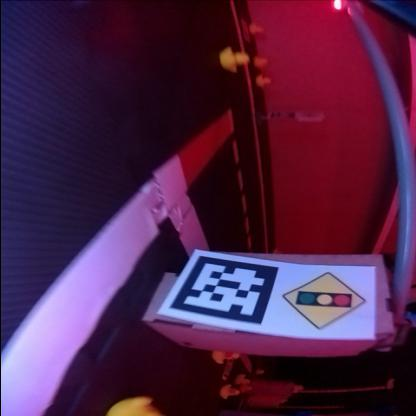Duckie: (219, 50, 249, 74), (212, 352, 238, 364), (220, 385, 240, 400), (254, 58, 268, 70), (256, 75, 270, 87), (250, 24, 262, 34)
QR code: (169, 256, 276, 325)
Signal sign: (282, 273, 366, 330)
